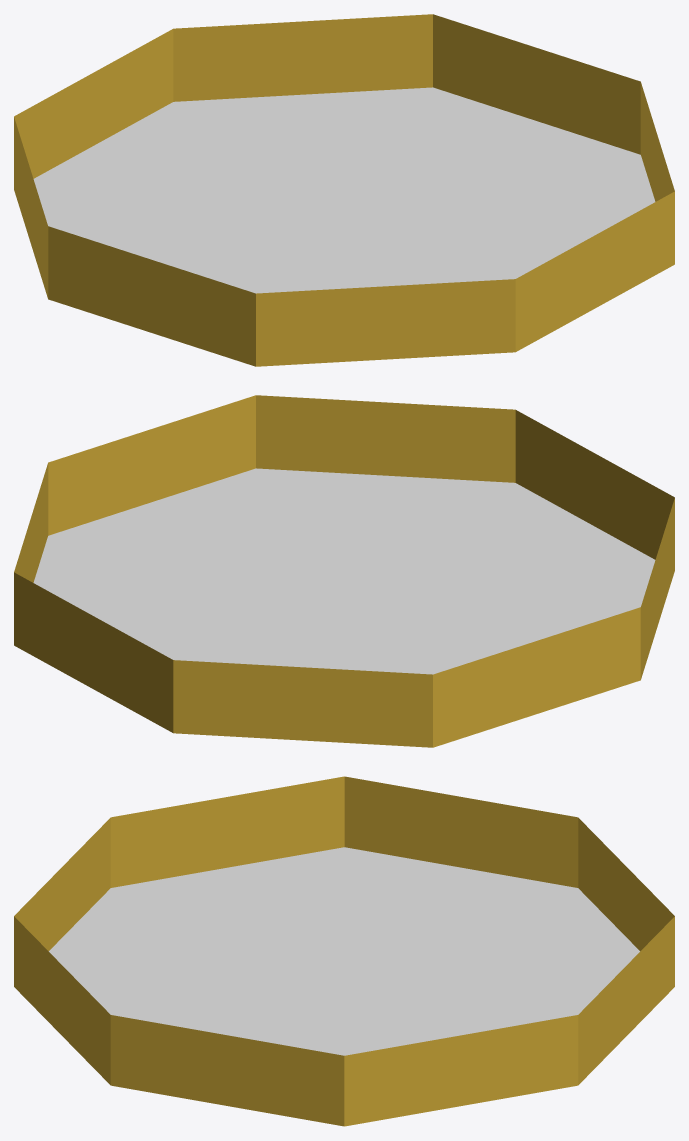
Rendered from Map.fbx.
3 views of the same model, one above another, from view 1: azimuth 30°, elevation 25°; view 2: azimuth 150°, elevation 25°; view 3: azimuth 270°, elevation 25° (orthographic). The views are drawn at different scales.
Visible parts, largest first — view 1: Cylinder; view 2: Cylinder; view 3: Cylinder.
Part boxes in pixels (left/top/right/bottom): Cylinder: left=14, top=14, right=674, bottom=366; Cylinder: left=14, top=395, right=674, bottom=747; Cylinder: left=14, top=776, right=674, bottom=1126.
Bounding box in the file's own units: 193 × 22.78 × 193.
